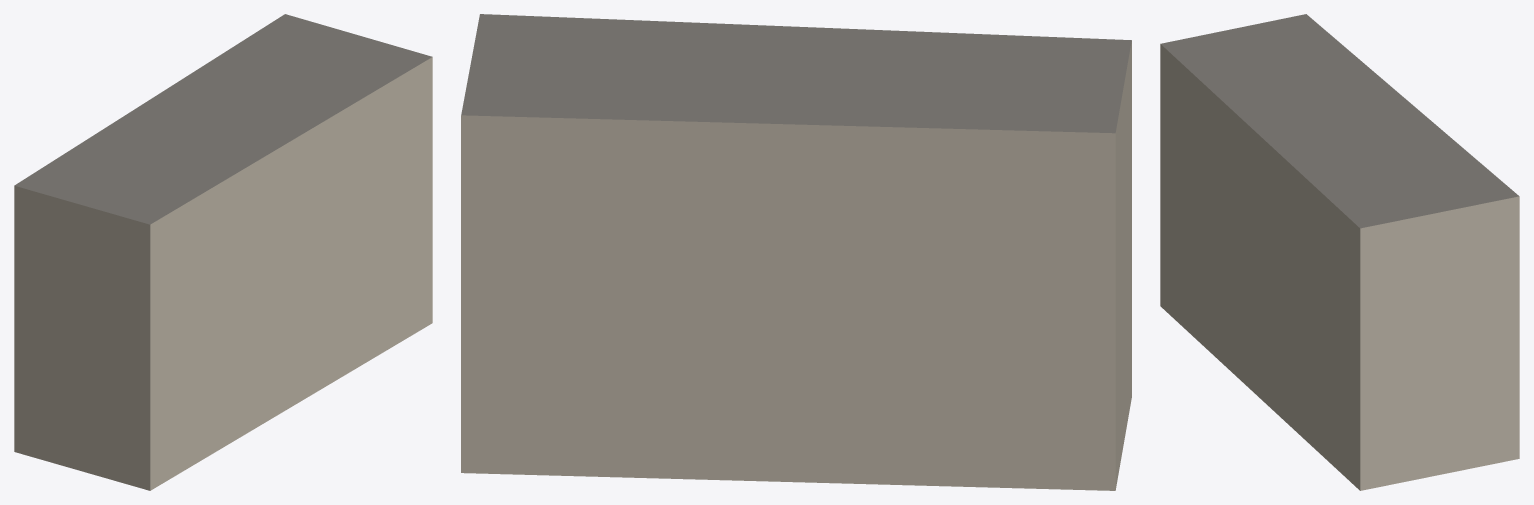
3 views of the same model, side by side, from view 1: azimuth 30°, elevation 25°; view 2: azimuth 150°, elevation 25°; view 3: azimuth 270°, elevation 25° (orthographic). The views are drawn at different scales.
Visible parts, largest first — view 1: HP-w505633355; view 2: HP-w505633355; view 3: HP-w505633355.
Boxes of the visible parts, left/top/right/bottom form: HP-w505633355: left=14, top=14, right=432, bottom=490; HP-w505633355: left=461, top=14, right=1131, bottom=490; HP-w505633355: left=1160, top=14, right=1519, bottom=490.
Size of the model in its own units: 31.54 by 18 by 22.32.
